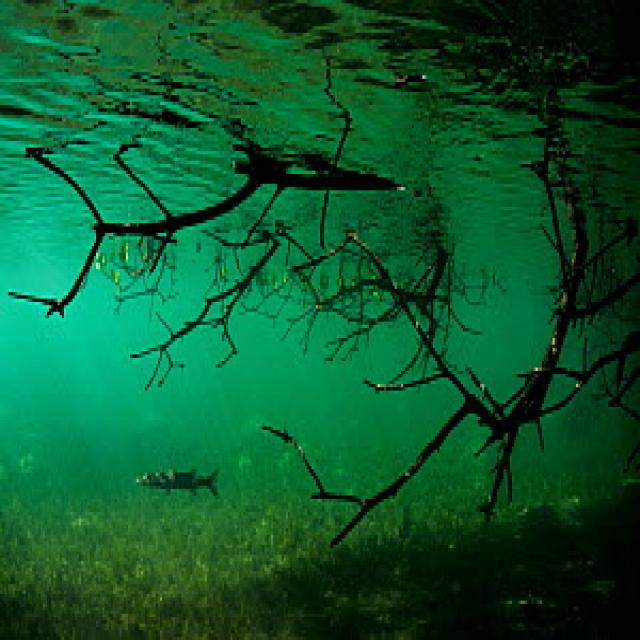Barracuda: (132, 460, 220, 502)
